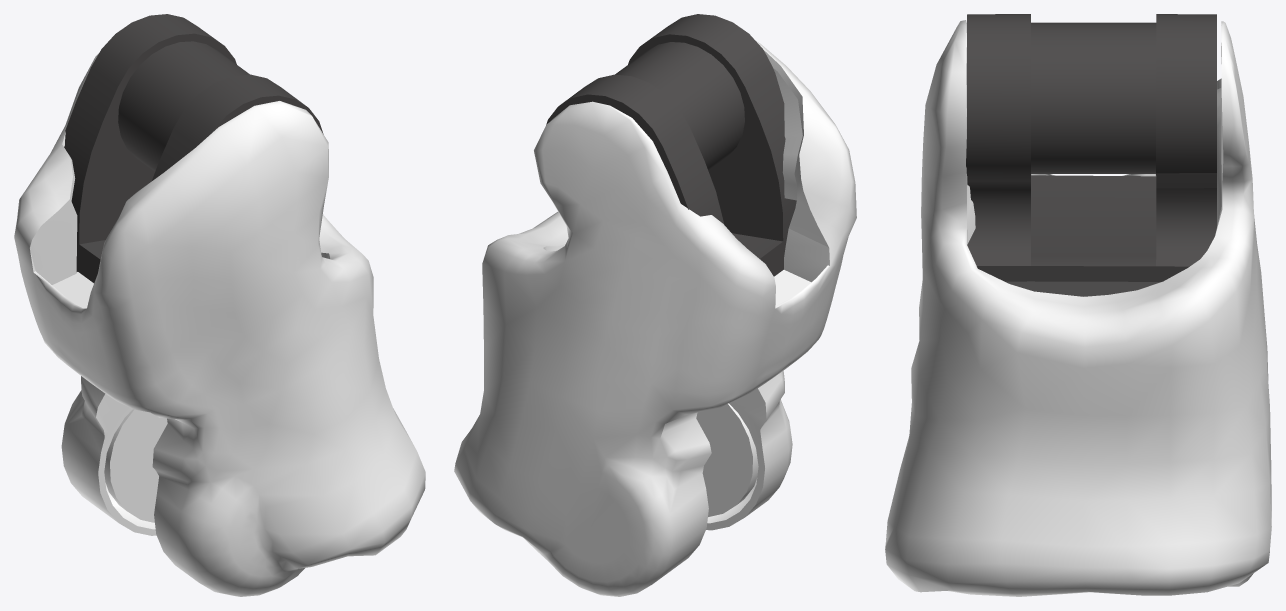
Rendered from RHipPitch.dae.
3 renders of one model, left to right at view 1: azimuth 30°, elevation 25°; view 2: azimuth 150°, elevation 25°; view 3: azimuth 270°, elevation 25°, orthographic. The views are drawn at different scales.
Parts seen in each view (by area): view 1: RHipPitch; view 2: RHipPitch; view 3: RHipPitch.
Boxes of the visible parts, left/top/right/bottom form: RHipPitch: left=14, top=14, right=425, bottom=596; RHipPitch: left=454, top=14, right=856, bottom=596; RHipPitch: left=885, top=14, right=1271, bottom=596.
Bounding box in the file's own units: 0.9585 × 0.8955 × 1.43.
Materials: 1 (1 with a texture image).
